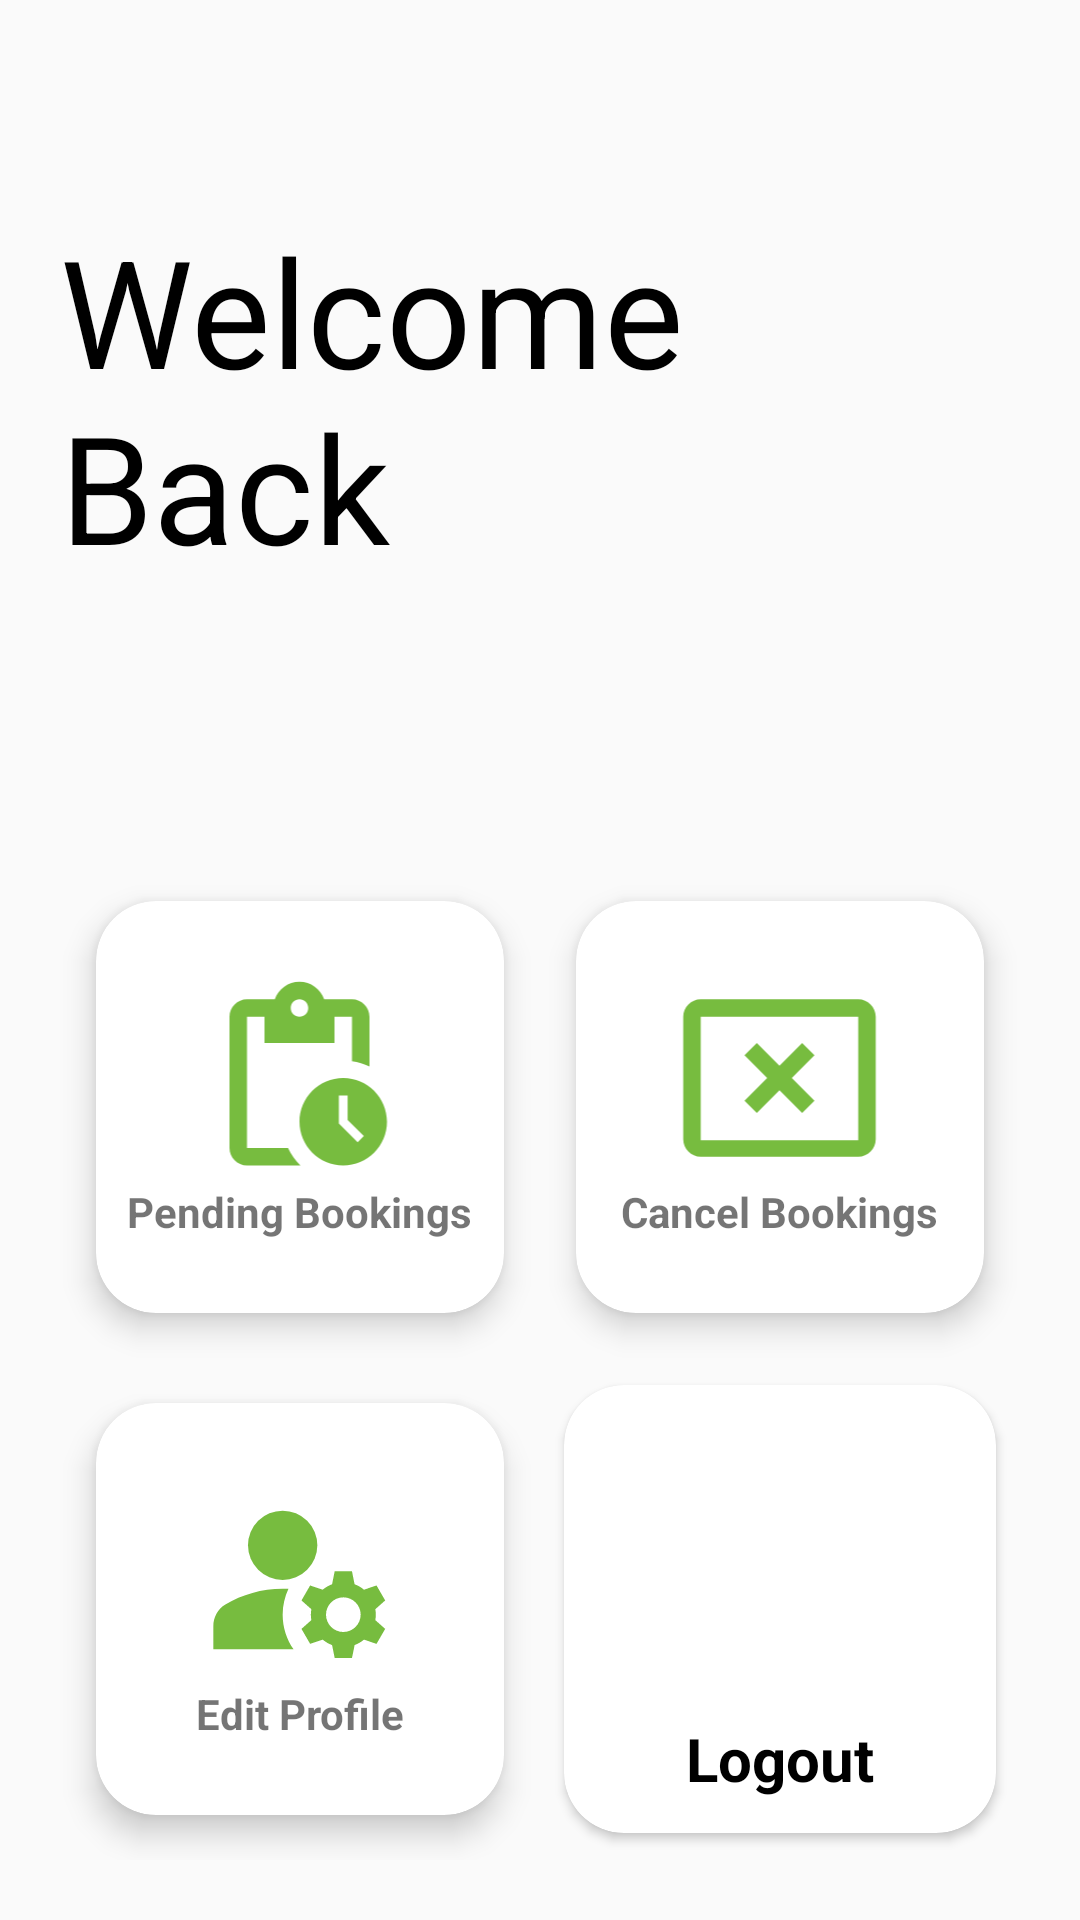

Locate icon controls on the screen. Image size 1080x1920, boxes as detection(x1, y1, x2, y2).
cancel presentation: detection(683, 999, 876, 1157)
manage accounts: detection(213, 1510, 385, 1658)
pending actions: detection(229, 981, 388, 1166)
